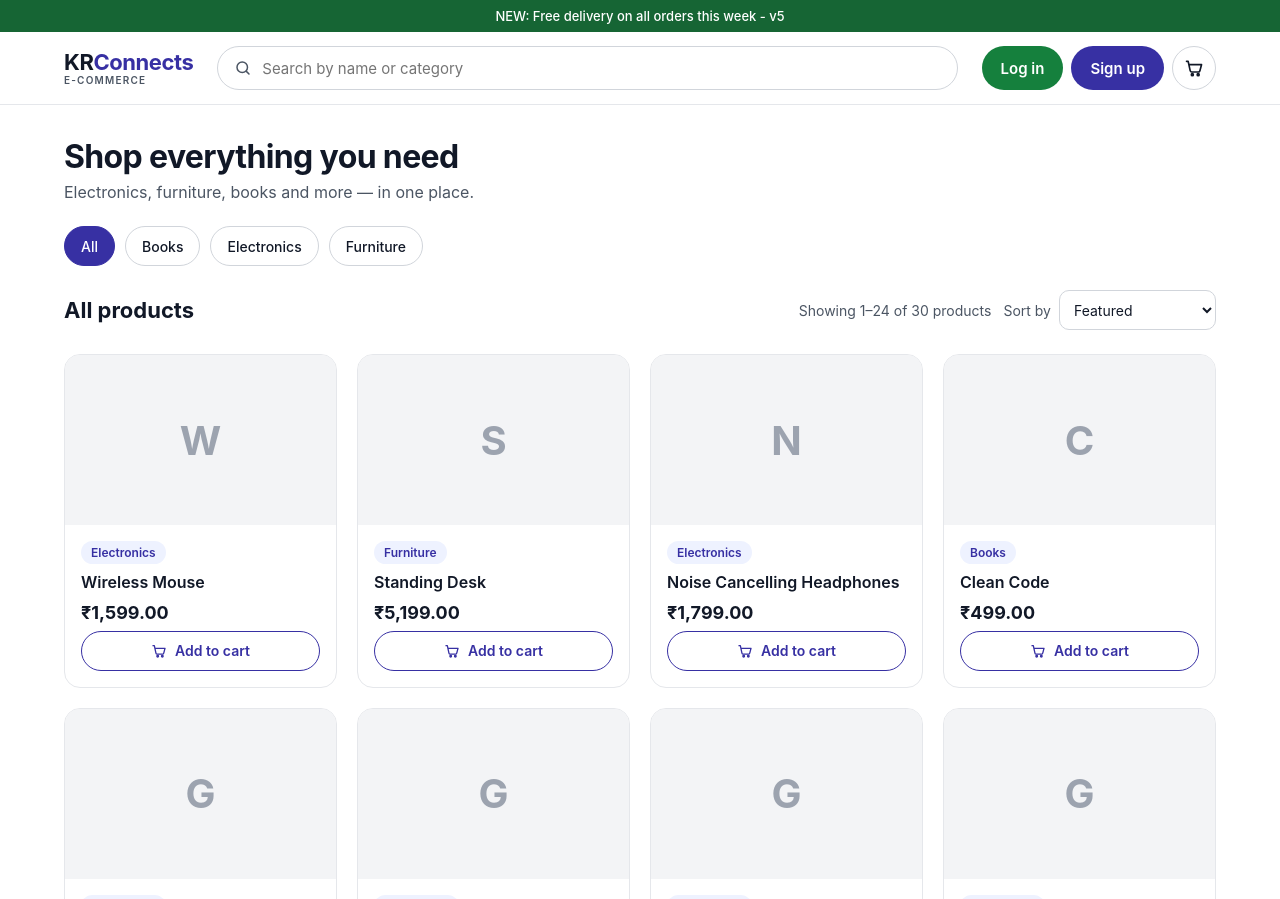
Test: SearchBox (search suggestions) › asks the API for only 5 suggestions
The image size is (1280, 899).
expect the link "Wireless Mouse" is shown: met, box [81,572,205,592]
Type "gadget" into the dropdown with placeholder "Search by name or category".
click(600, 68); type("gadget")  # box [260,58,940,78]
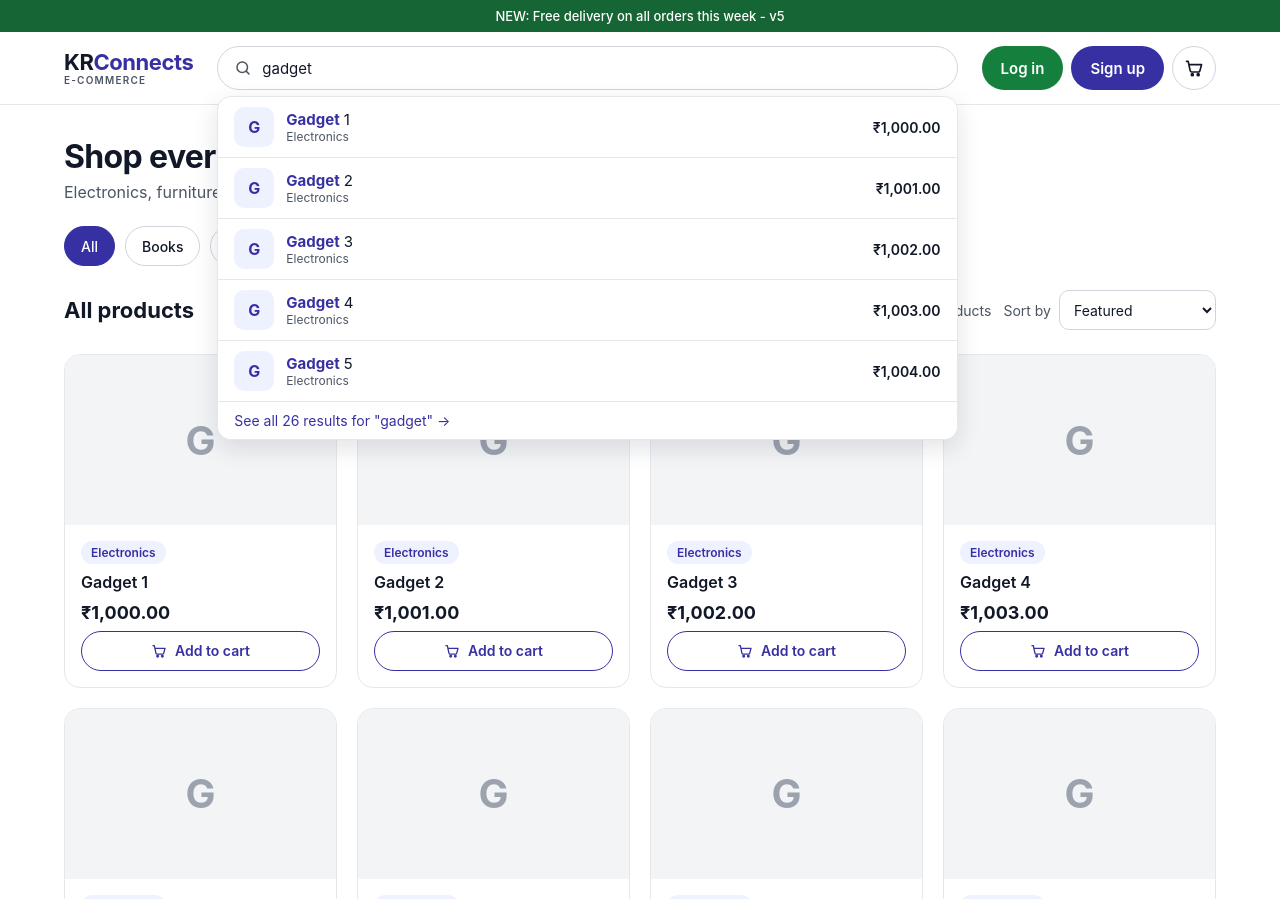
expect the number of options is 5: met, box [218,97,956,158]; [218,158,956,219]; [218,219,956,280]; [218,280,956,341]; [218,341,956,402]
expect the button "See all 26 results for \"gadget\" →" is shown: met, box [218,402,956,439]
